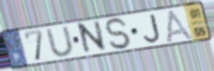7: (22, 28, 45, 63)
A: (164, 8, 197, 43)
J: (142, 12, 162, 44)
N: (77, 19, 108, 57)
S: (103, 17, 134, 52)
U: (44, 25, 76, 58)
